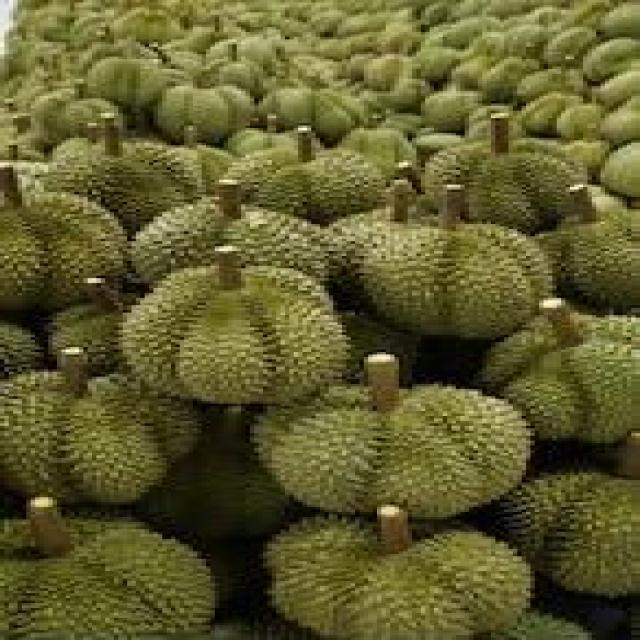immature: (251, 384, 534, 519), (121, 261, 354, 405), (0, 365, 207, 503), (355, 223, 560, 338), (121, 198, 347, 290), (423, 145, 593, 235), (223, 146, 390, 228)
